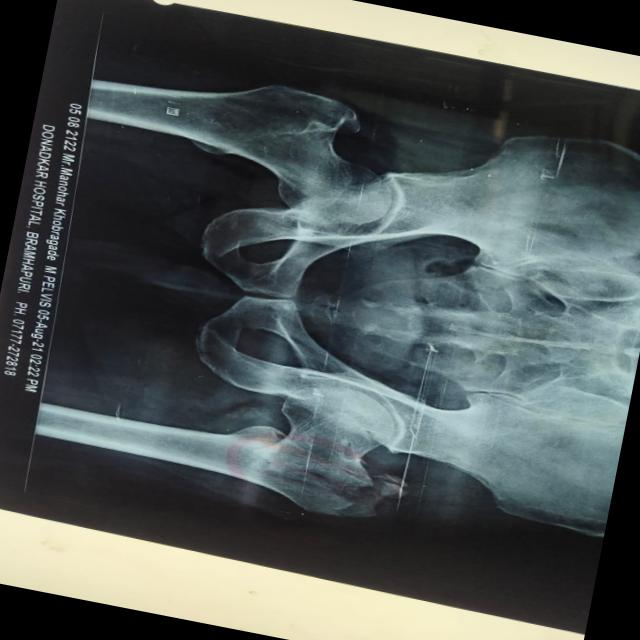left-neck: (145, 424, 406, 518), (255, 387, 393, 487)
normal-right: (107, 82, 393, 226)
